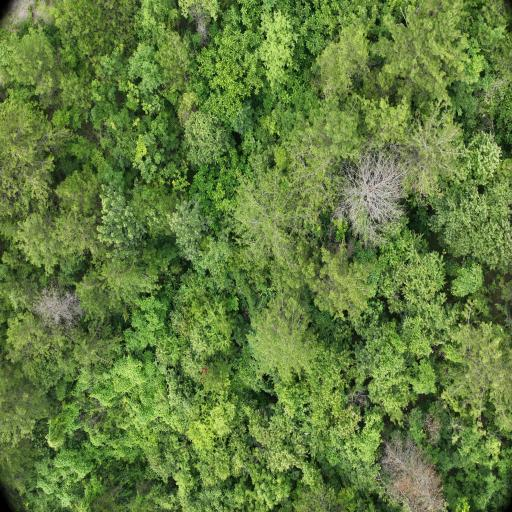dead-tree: (346, 155, 397, 234), (385, 444, 440, 510), (44, 290, 76, 319)
